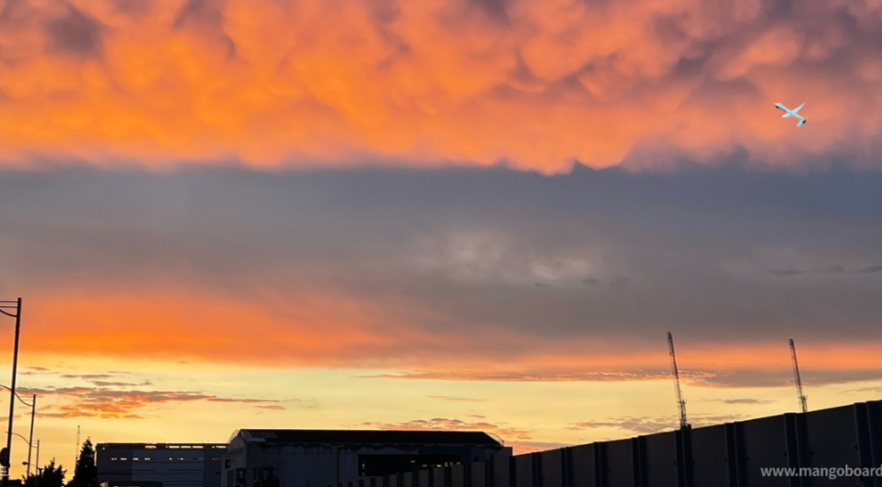military drone: (773, 101, 806, 127)
